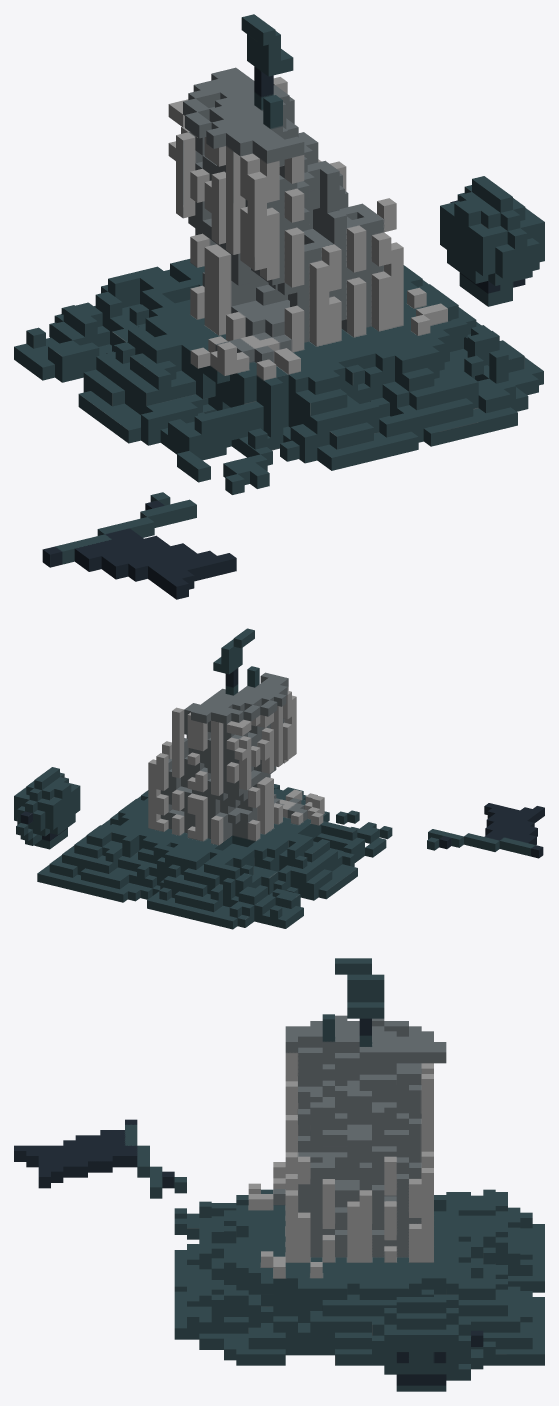
Rendered from statue_destroyed.glb.
3 views of the same model, one above another, from view 1: azimuth 30°, elevation 25°; view 2: azimuth 150°, elevation 25°; view 3: azimuth 270°, elevation 25° (orthographic). The views are drawn at different scales.
Visible parts, largest first — view 1: statue_destroyed; view 2: statue_destroyed; view 3: statue_destroyed.
Boxes of the visible parts, bbox=[...] form: statue_destroyed: bbox=[14, 14, 544, 599]; statue_destroyed: bbox=[14, 628, 544, 929]; statue_destroyed: bbox=[14, 958, 544, 1391].
Bounding box in the file's own units: 5.2 × 2.8 × 4.3.
1 material, 1 textured.
